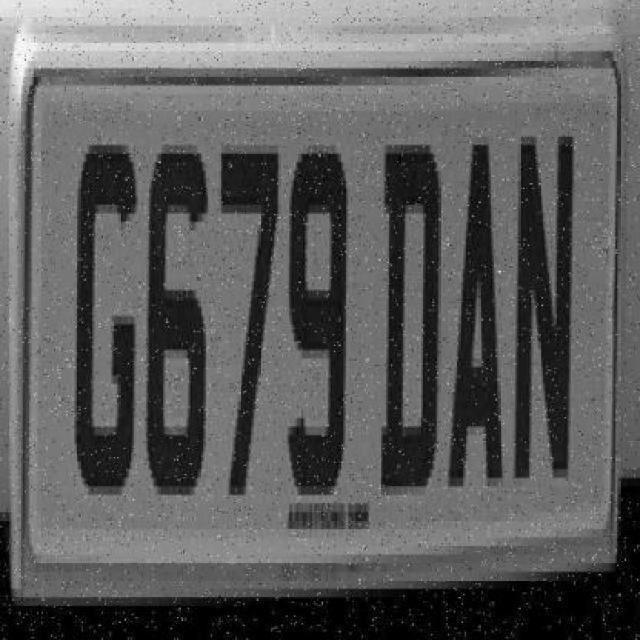licenseplate: (7, 9, 628, 609)
